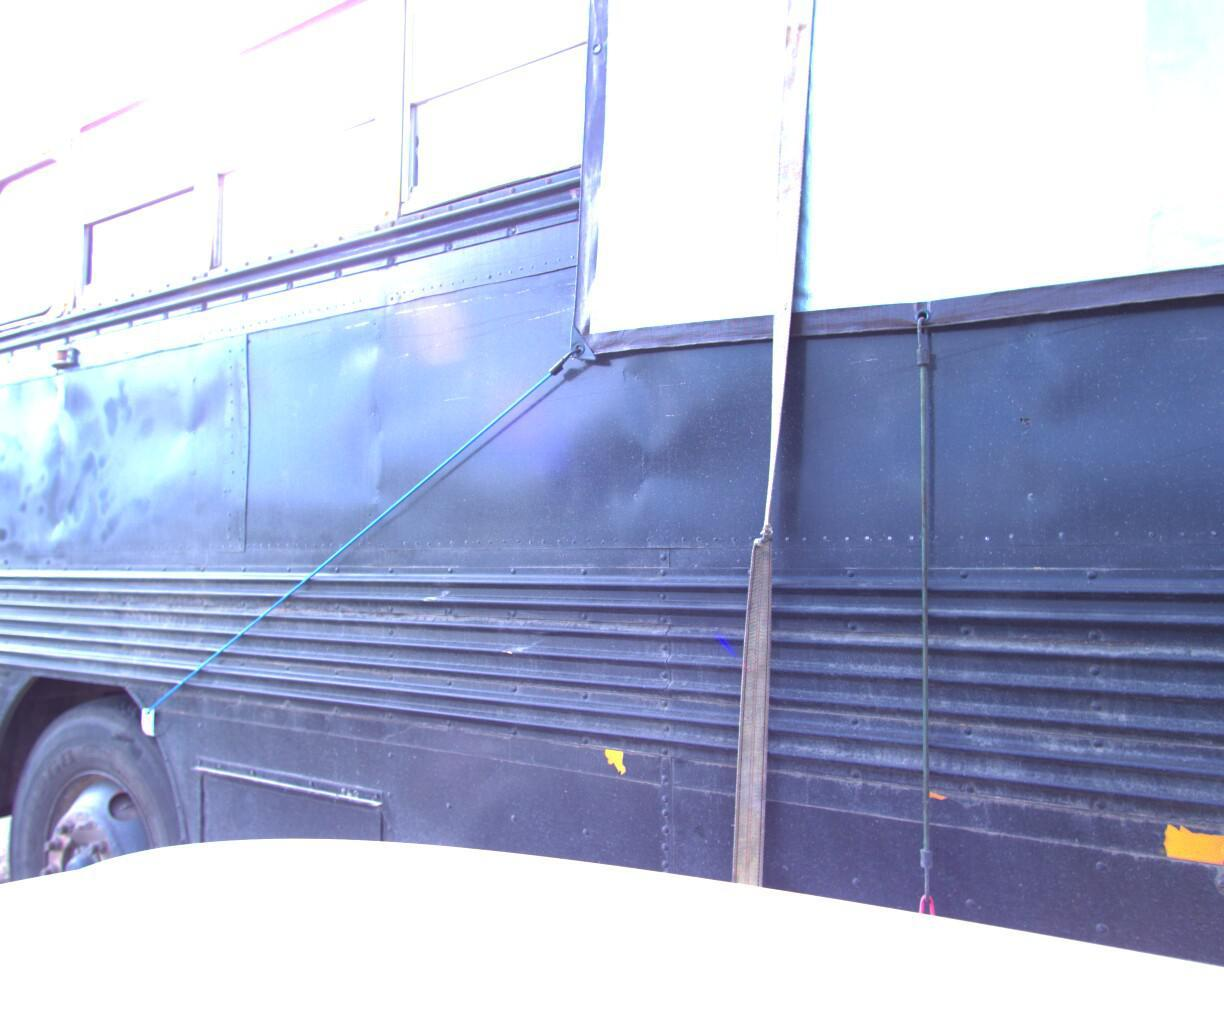car: (0, 498, 17, 807)
